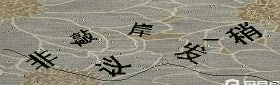chinese: (226, 19, 267, 48), (26, 46, 60, 70), (175, 42, 208, 65), (98, 55, 131, 76), (69, 26, 99, 49), (129, 19, 156, 40)
